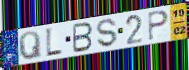2: (124, 13, 145, 46)
B: (72, 21, 94, 54)
L: (45, 27, 64, 59)
P: (147, 9, 170, 42)
Q: (17, 30, 43, 61)
S: (96, 18, 119, 48)
